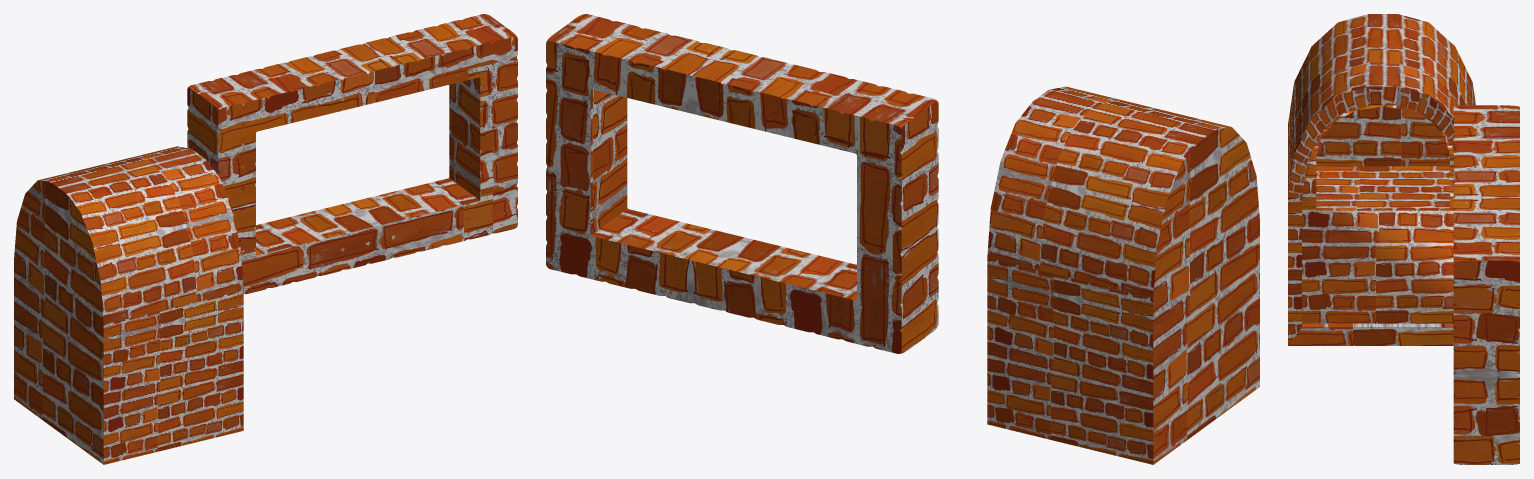
File: bricks.fbx
The picture shows the model from 3 angles, left to right: view 1: azimuth 30°, elevation 25°; view 2: azimuth 150°, elevation 25°; view 3: azimuth 270°, elevation 25°; orthographic projection. The views are drawn at different scales.
Visible parts, largest first — view 1: horno_high, Ventana_chef_high; view 2: horno_high, Ventana_chef_high; view 3: horno_high, Ventana_chef_high.
Part boxes in pixels (box(x1,y1,x2,y2)): horno_high: box(14, 146, 243, 464); Ventana_chef_high: box(187, 14, 517, 294); horno_high: box(987, 86, 1259, 464); Ventana_chef_high: box(546, 14, 938, 353); horno_high: box(1288, 14, 1475, 345); Ventana_chef_high: box(1453, 105, 1519, 464).
Size of the model in its own units: 485 by 237 by 186.
1 material, 1 textured.
